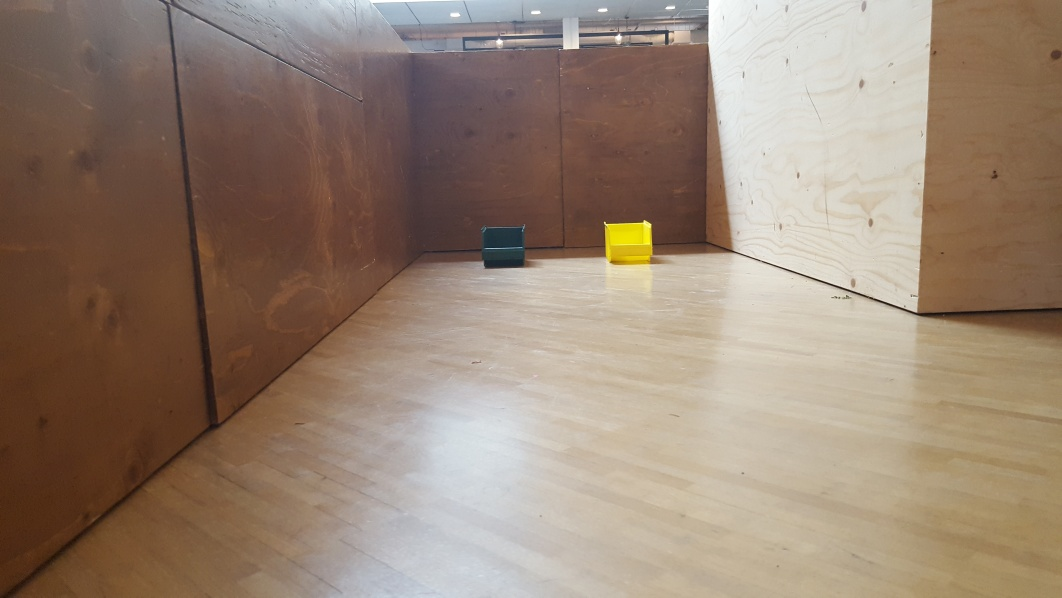tray: (602, 216, 657, 264), (478, 222, 530, 269)
